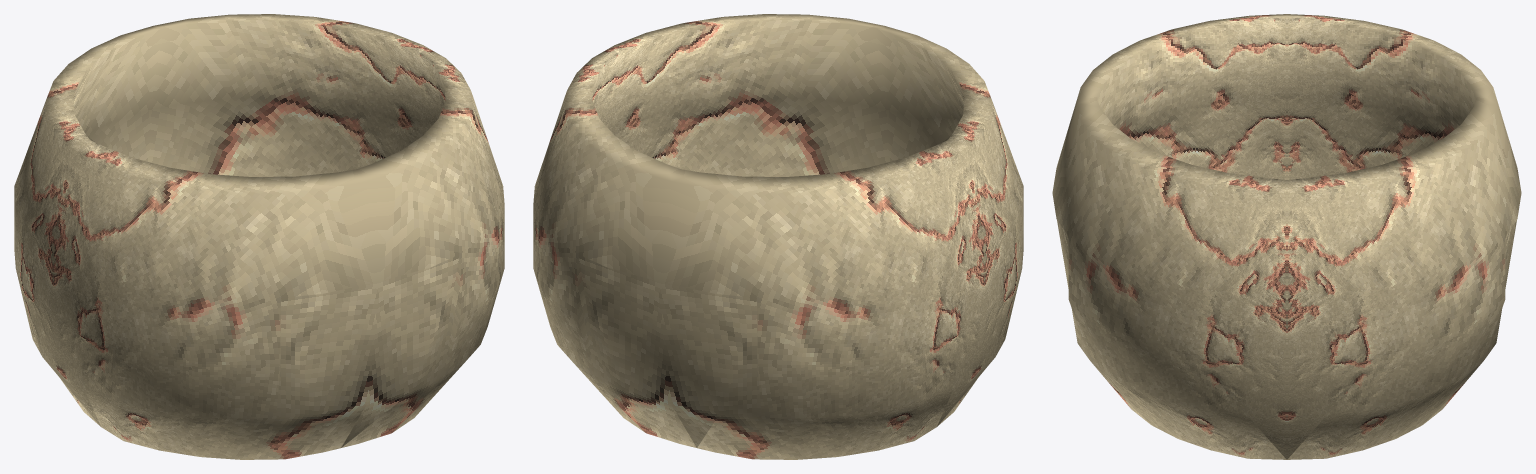
File: pot.glb
3 views of the same model, side by side, from view 1: azimuth 30°, elevation 25°; view 2: azimuth 150°, elevation 25°; view 3: azimuth 270°, elevation 25° (orthographic).
Parts seen in each view (by area): view 1: Pot; view 2: Pot; view 3: Pot.
Boxes of the visible parts, x1,y1,x2,y2 form: Pot: (14, 14, 504, 459); Pot: (533, 14, 1023, 459); Pot: (1052, 14, 1521, 459).
Bounding box in the file's own units: 1.09 × 0.7314 × 1.09.
1 material, 1 textured.
